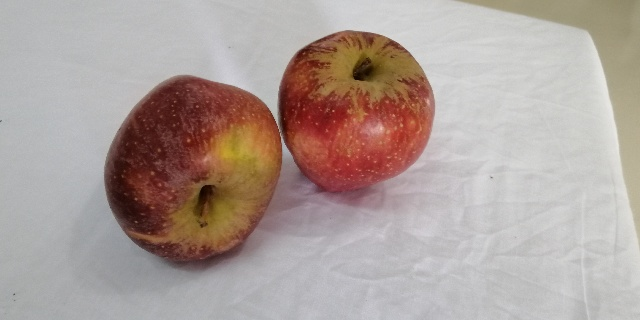apple_kashmir: (104, 74, 284, 266), (280, 32, 436, 198)
